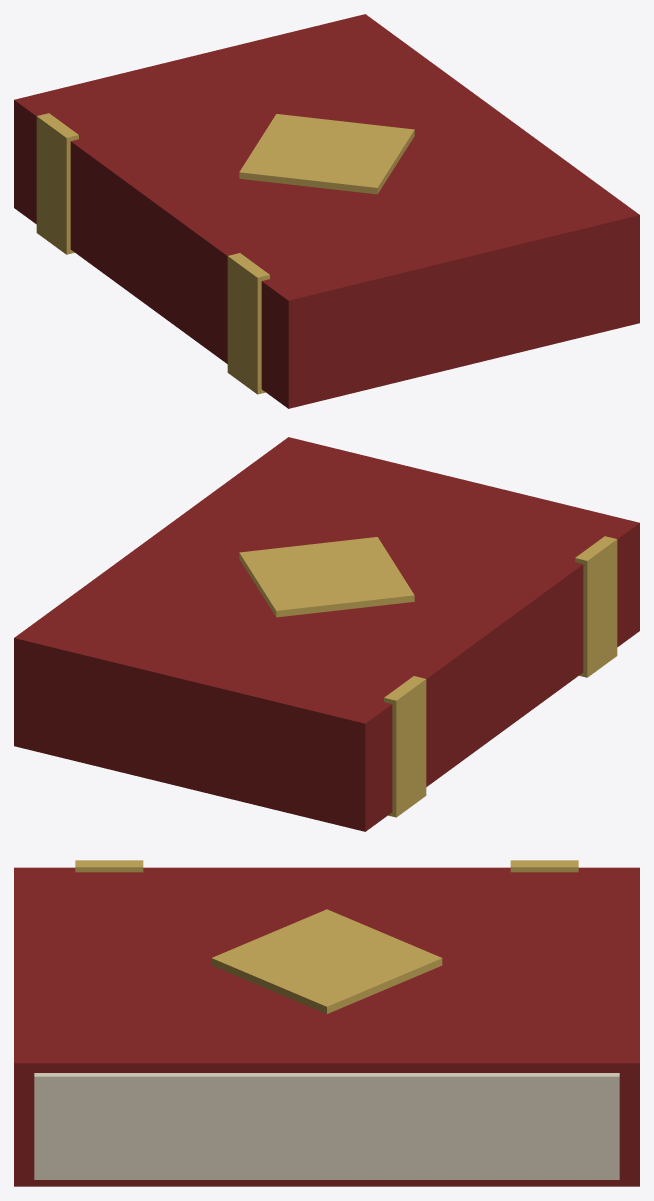
Rendered from Livro_Vermelho.glb.
3 renders of one model, top to bottom at view 1: azimuth 30°, elevation 25°; view 2: azimuth 150°, elevation 25°; view 3: azimuth 270°, elevation 25°, orthographic. The views are drawn at different scales.
Parts seen in each view (by area): view 1: Cube, Cube.004, Cube.002, Cube.003; view 2: Cube, Cube.004, Cube.003, Cube.002; view 3: Cube, Cube.001, Cube.004, Cube.002, Cube.003.
Part boxes in pixels (box(x1,y1,x2,y2)): Cube: box(14, 14, 639, 408); Cube.004: box(239, 114, 414, 194); Cube.002: box(227, 253, 269, 394); Cube.003: box(36, 113, 78, 254); Cube: box(14, 437, 639, 831); Cube.004: box(239, 537, 414, 617); Cube.003: box(384, 676, 426, 817); Cube.002: box(575, 536, 617, 677); Cube: box(14, 867, 639, 1186); Cube.001: box(34, 1073, 619, 1179); Cube.004: box(211, 909, 442, 1013); Cube.002: box(75, 860, 143, 872); Cube.003: box(510, 860, 578, 872).
Bounding box in the file's own units: 0.175 × 0.055 × 0.23.
